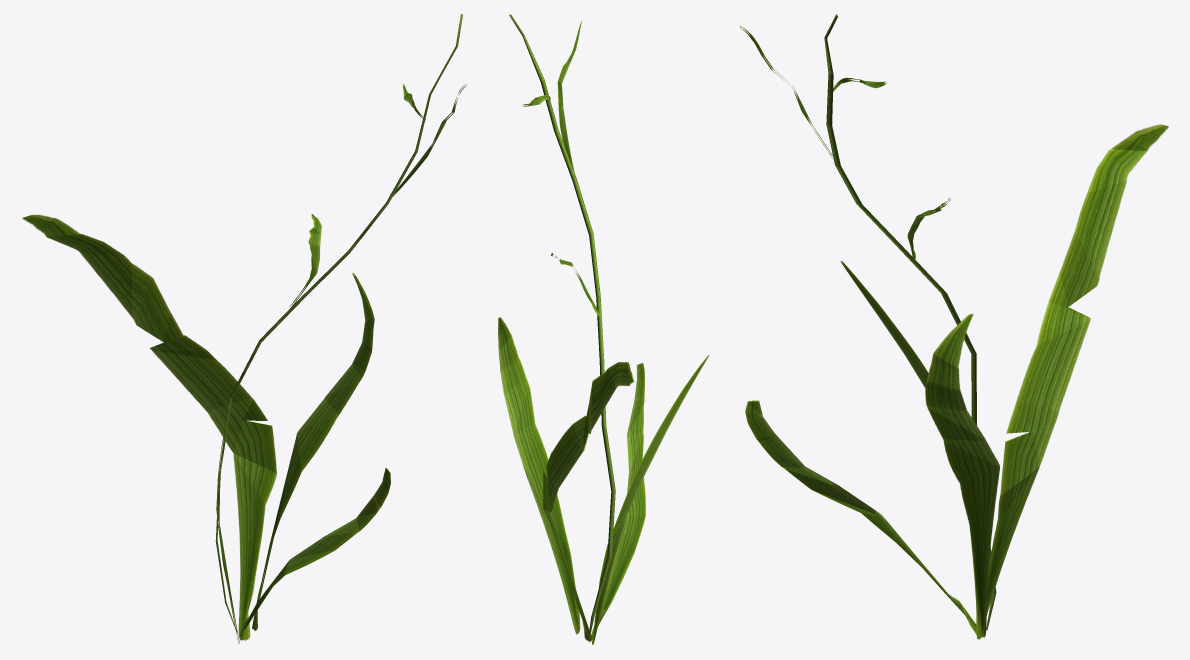
Rendered from grass_03.glb.
The picture shows the model from 3 angles, left to right: view 1: azimuth 30°, elevation 25°; view 2: azimuth 150°, elevation 25°; view 3: azimuth 270°, elevation 25°; orthographic projection. The views are drawn at different scales.
Parts seen in each view (by area): view 1: Pasto compuesto 3; view 2: Pasto compuesto 3; view 3: Pasto compuesto 3.
Boxes of the visible parts, left/top/right/bottom form: Pasto compuesto 3: left=22, top=14, right=466, bottom=643; Pasto compuesto 3: left=498, top=14, right=709, bottom=644; Pasto compuesto 3: left=740, top=14, right=1168, bottom=639.
Size of the model in its own units: 0.5884 by 1.21 by 0.673.
2 materials, 2 textured.
